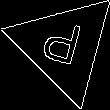P_S: (39, 18, 88, 75)
